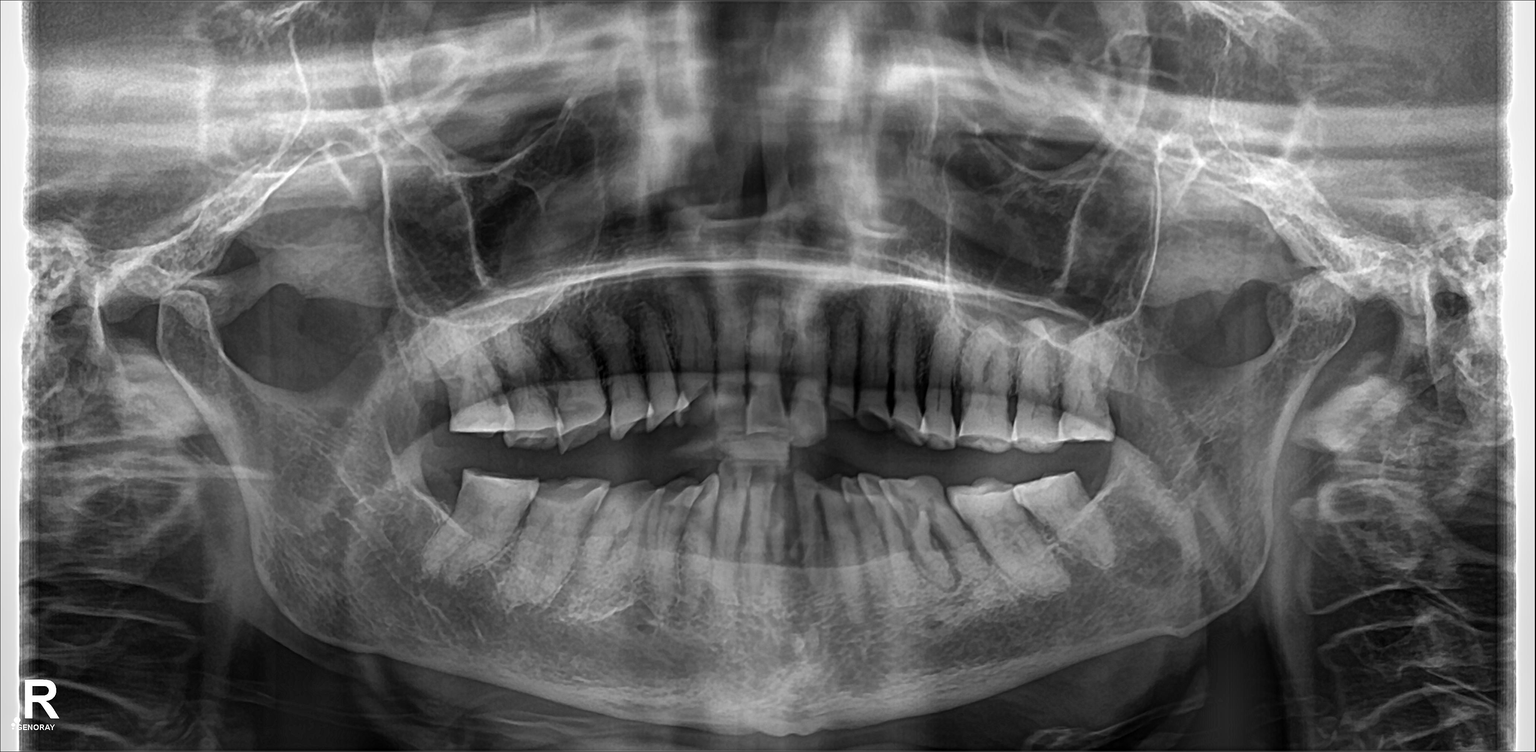Missing Tooth: (410, 462, 454, 544)
Retained Root: (395, 357, 448, 434)
